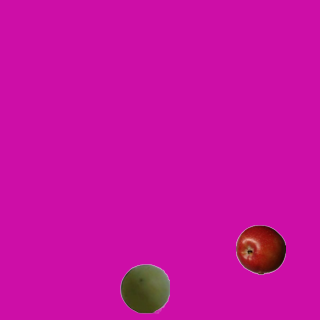Apple Braeburn: (235, 224, 285, 274)
Grape White 4: (119, 263, 169, 313)
